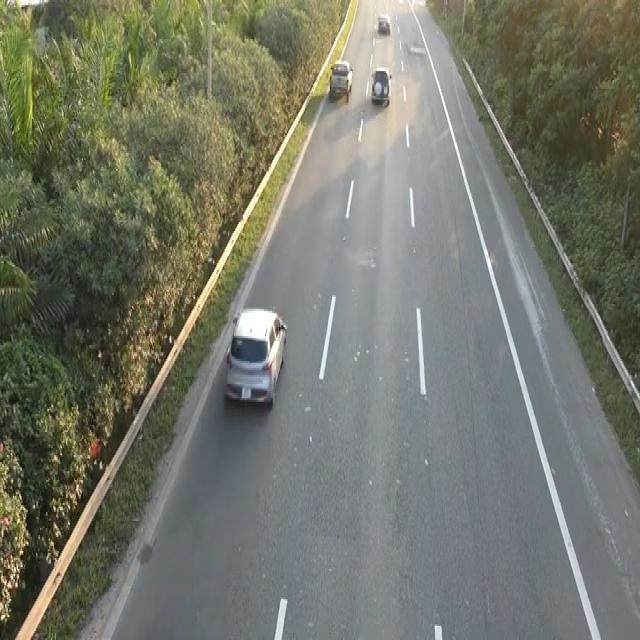bus: (222, 302, 288, 409)
car: (327, 59, 353, 101), (369, 64, 392, 107)
